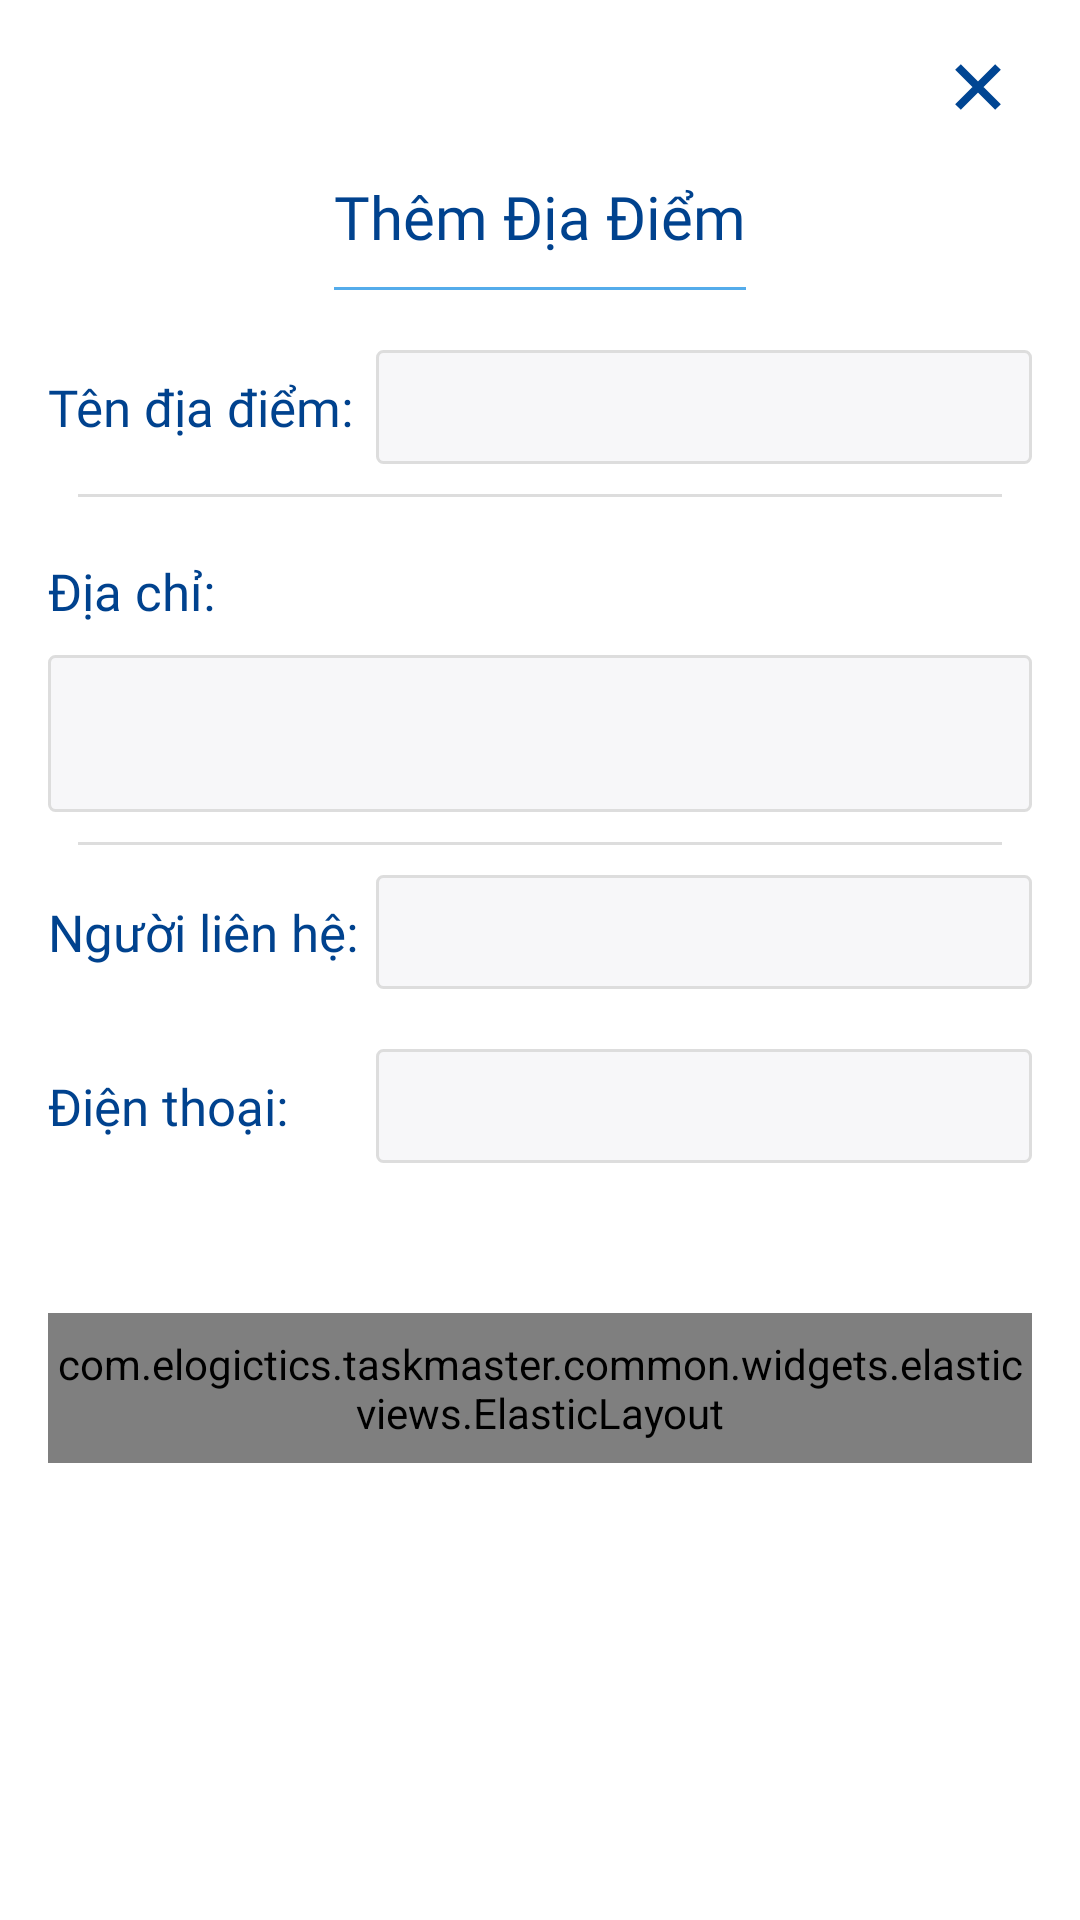

Screen size 1080*1920. Icon name, then its center in pixels as [x,y]:
close dialog: [978,87]
